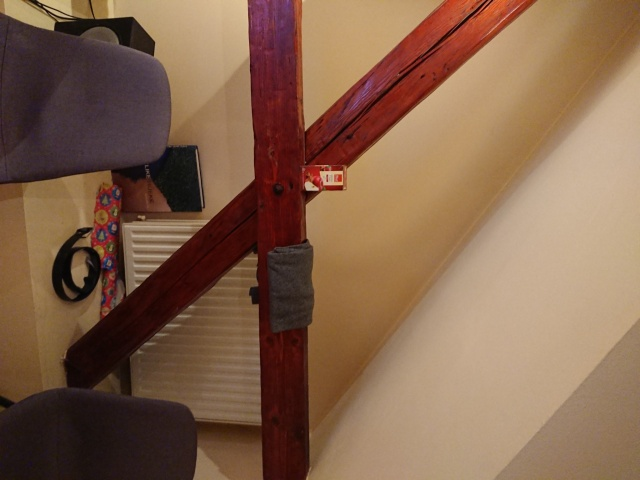Franck Apple Cinnamon Tea 60g: (297, 161, 350, 194)
